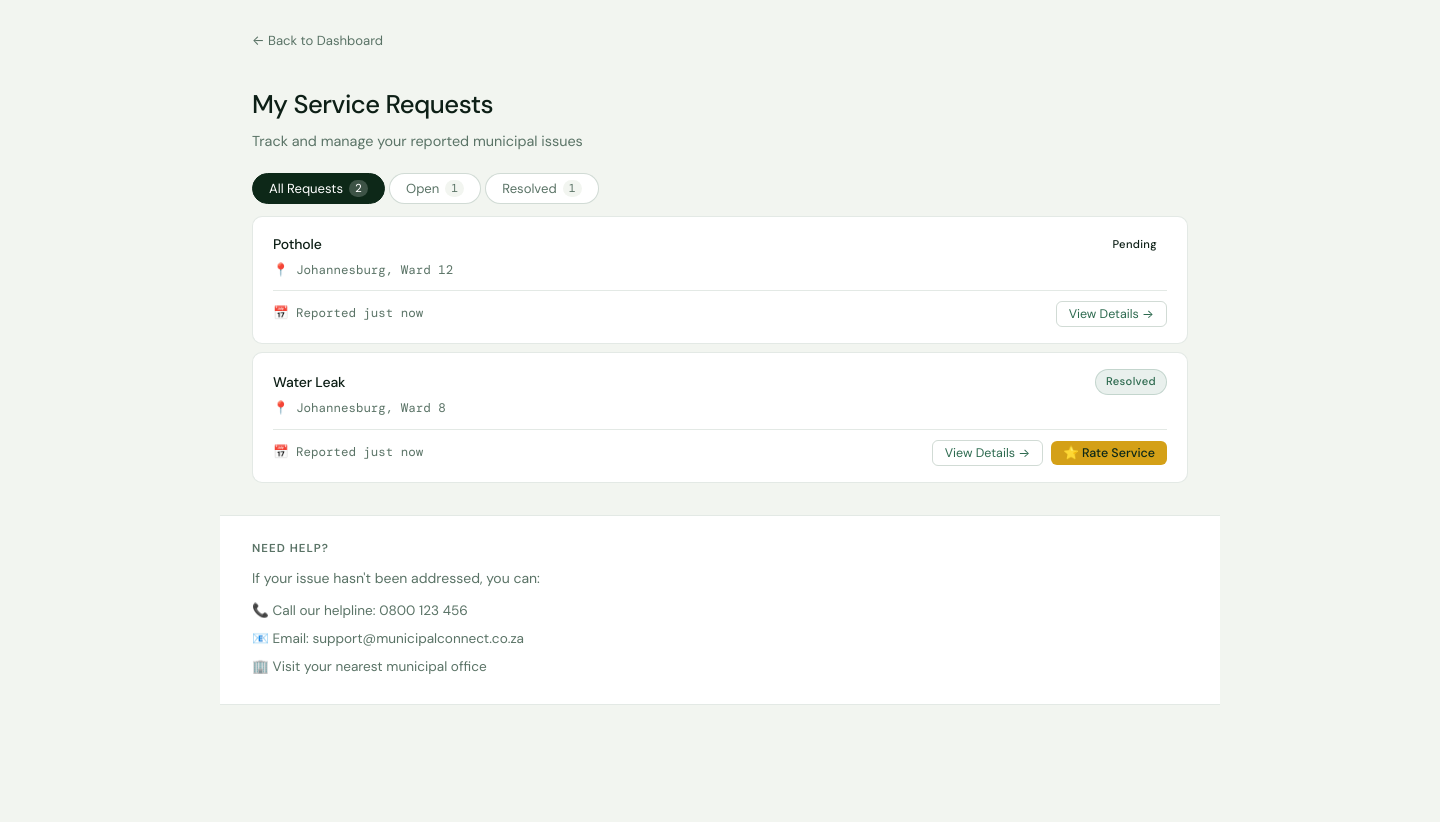
Test: boundary test: minimum feedback rating accepted
Click the button "⭐ Rate Service".
click(1109, 453)  # box [1051,441,1167,465]
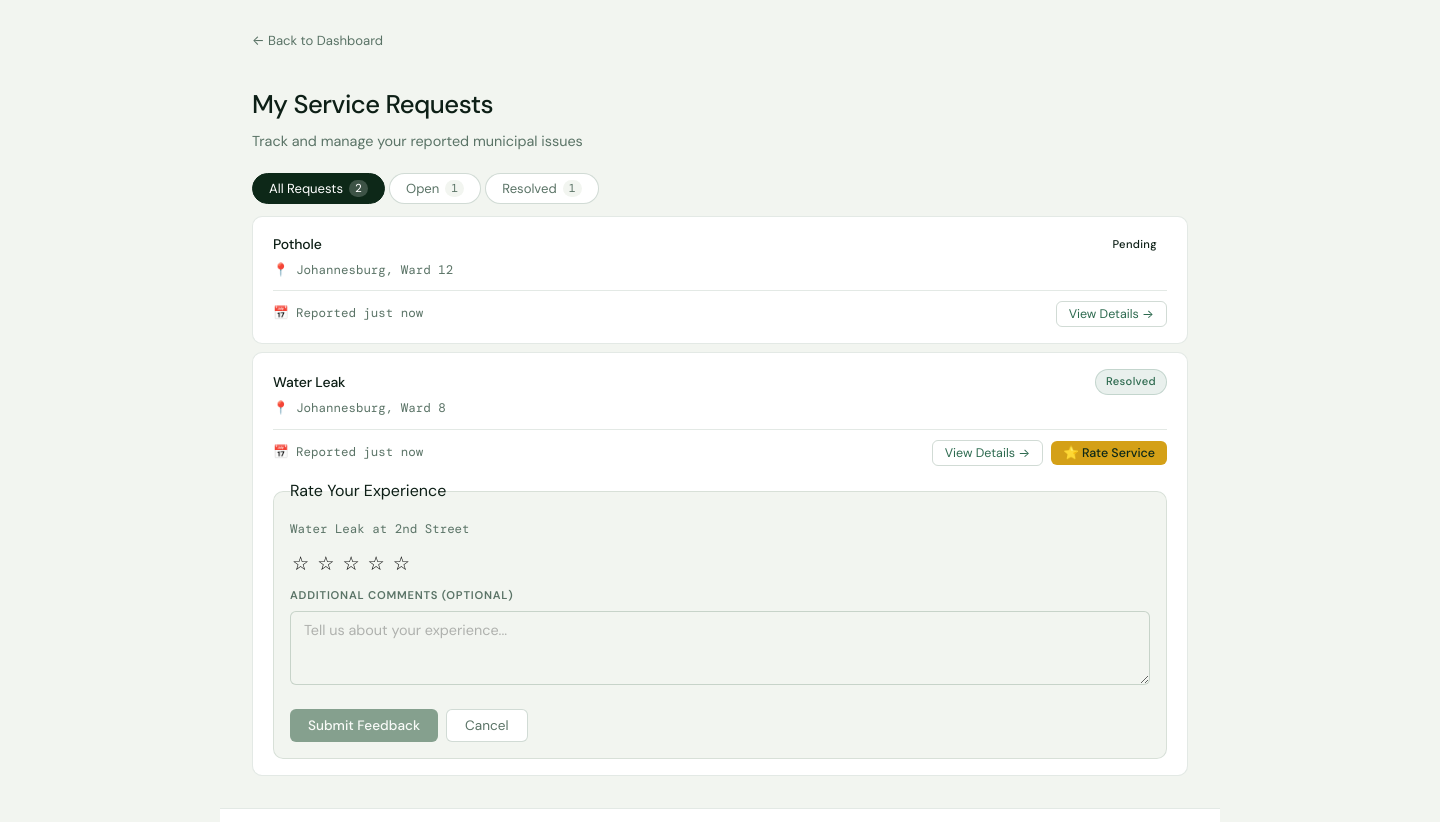
Click the button named "star".
click(301, 564)  # box [290,552,311,575]
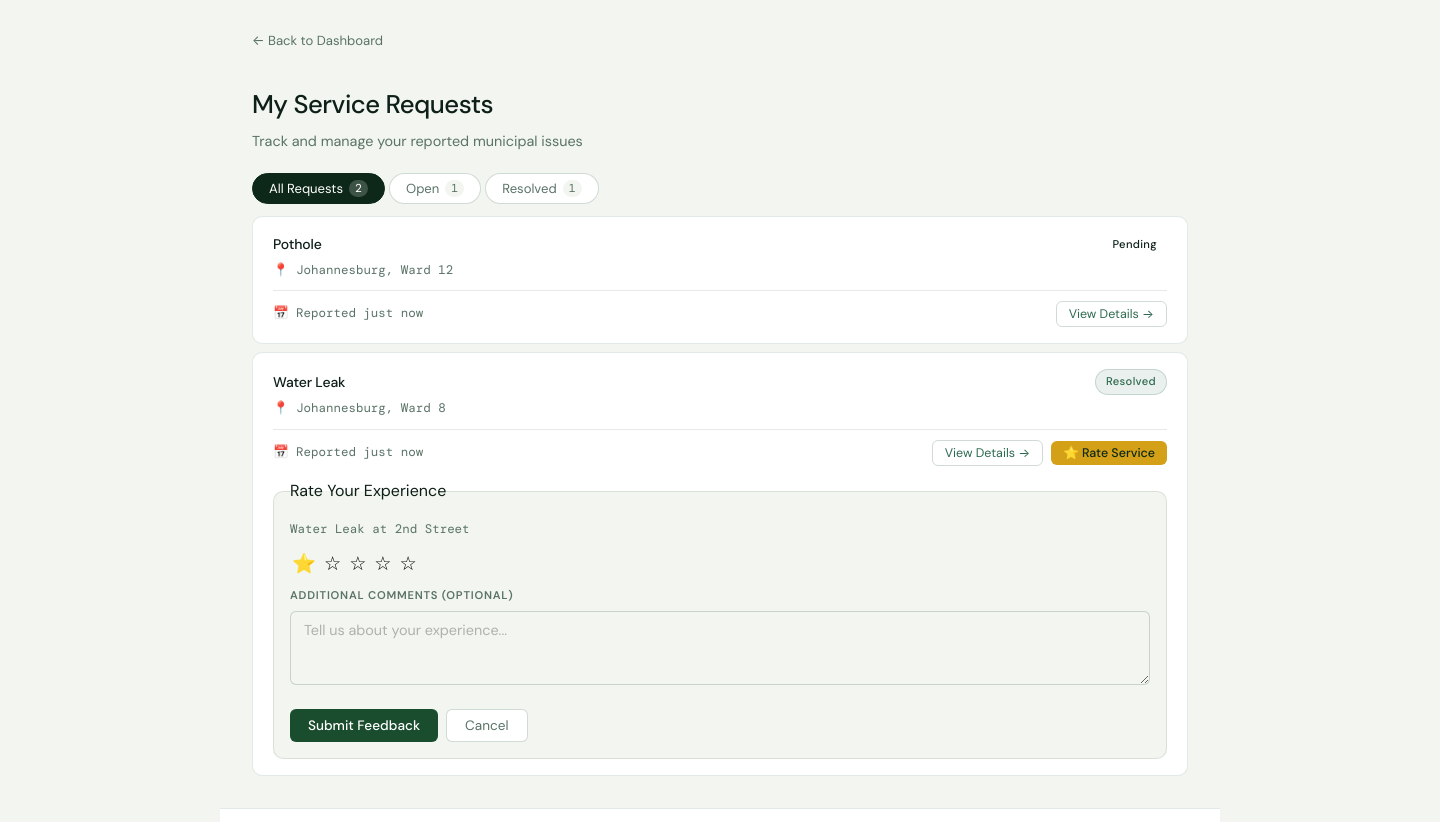
Type "Bad service" into the text box with placeholder "Tell us about your experience...".
click(720, 648); type("Bad service")  # box [290,611,1150,685]
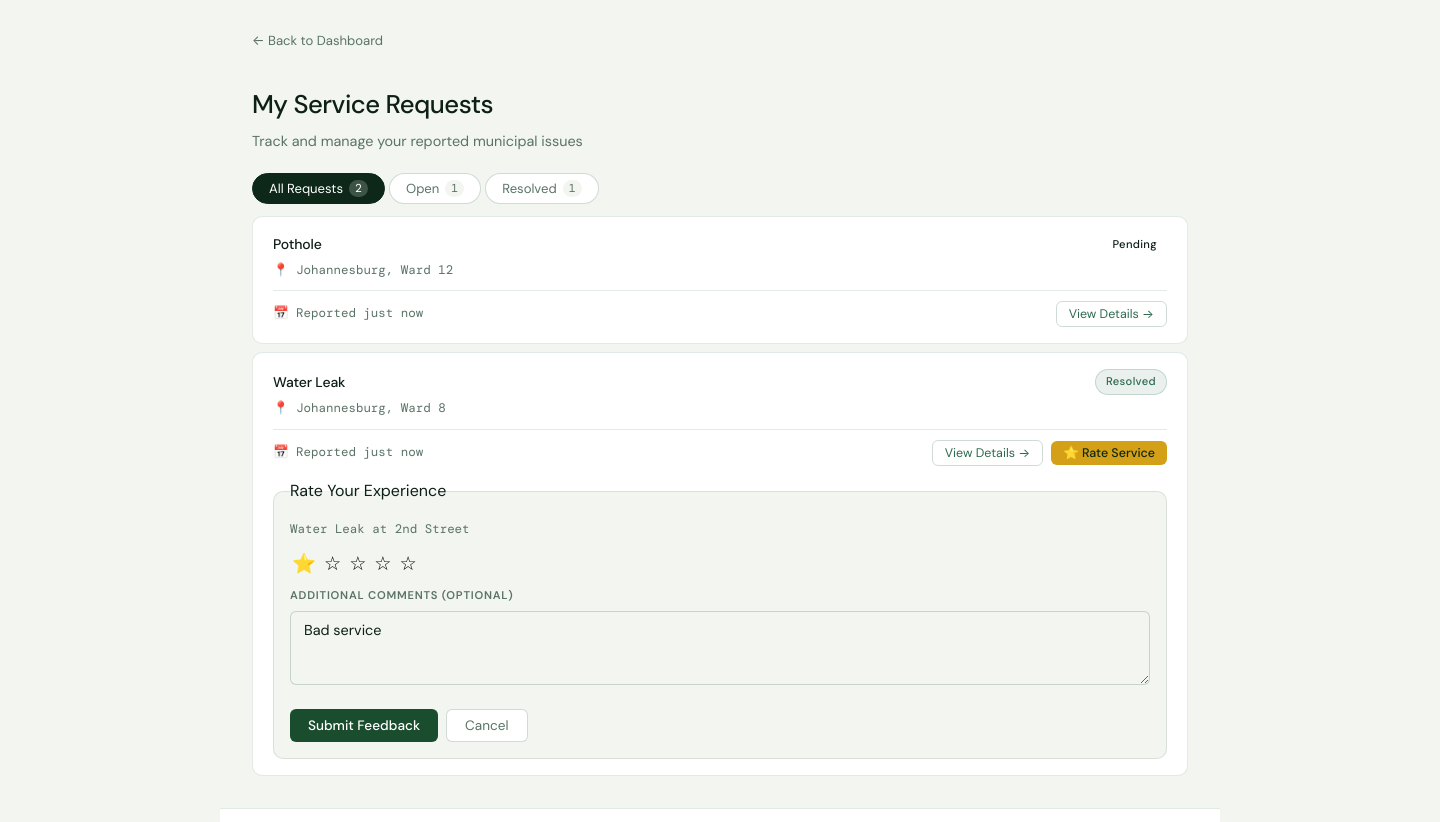
Click the button "Submit Feedback".
click(364, 725)  # box [290,709,438,742]
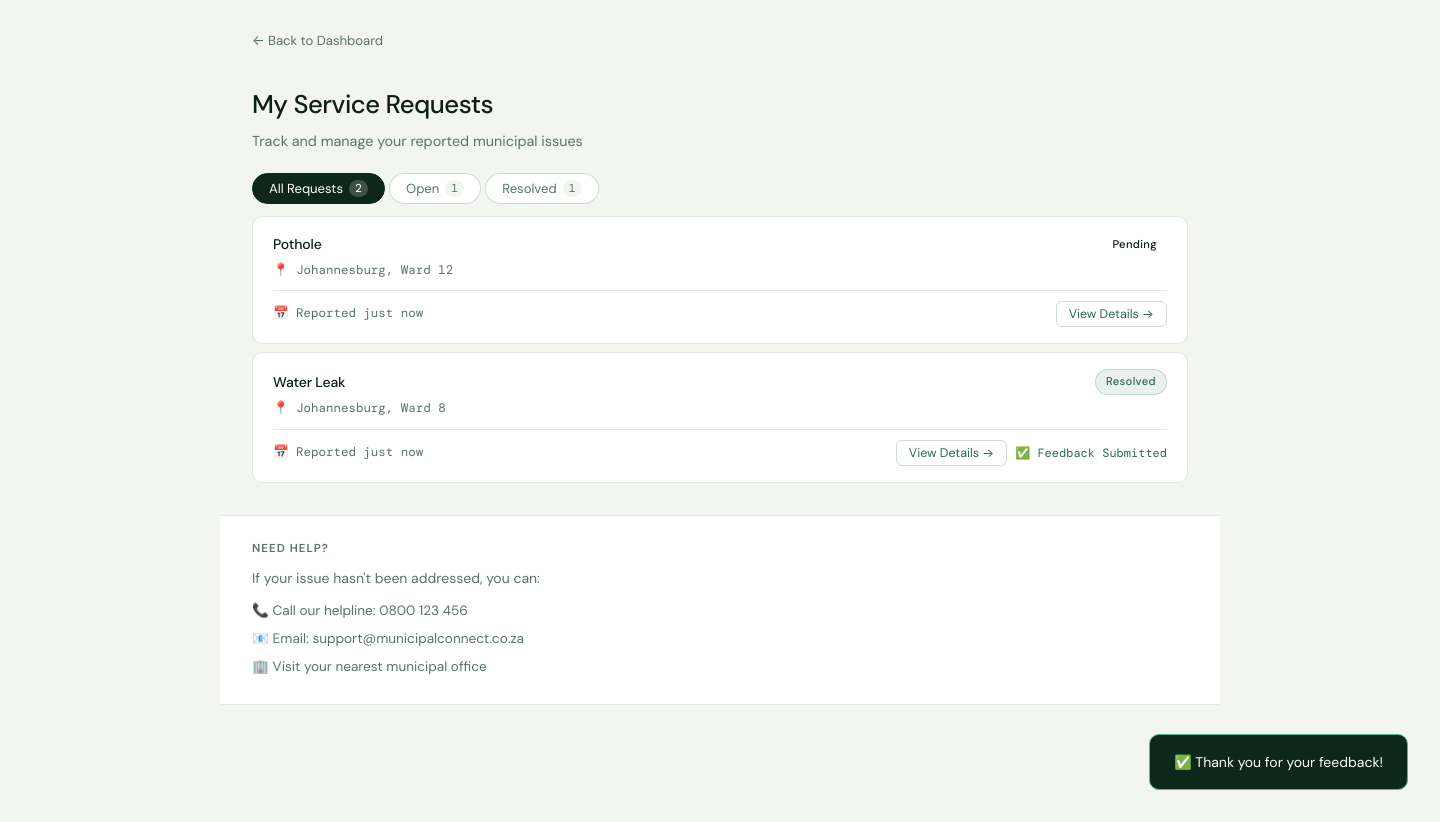
Now the text "✅ Thank you for your feedback!" is shown, box [1149,734,1408,790]
